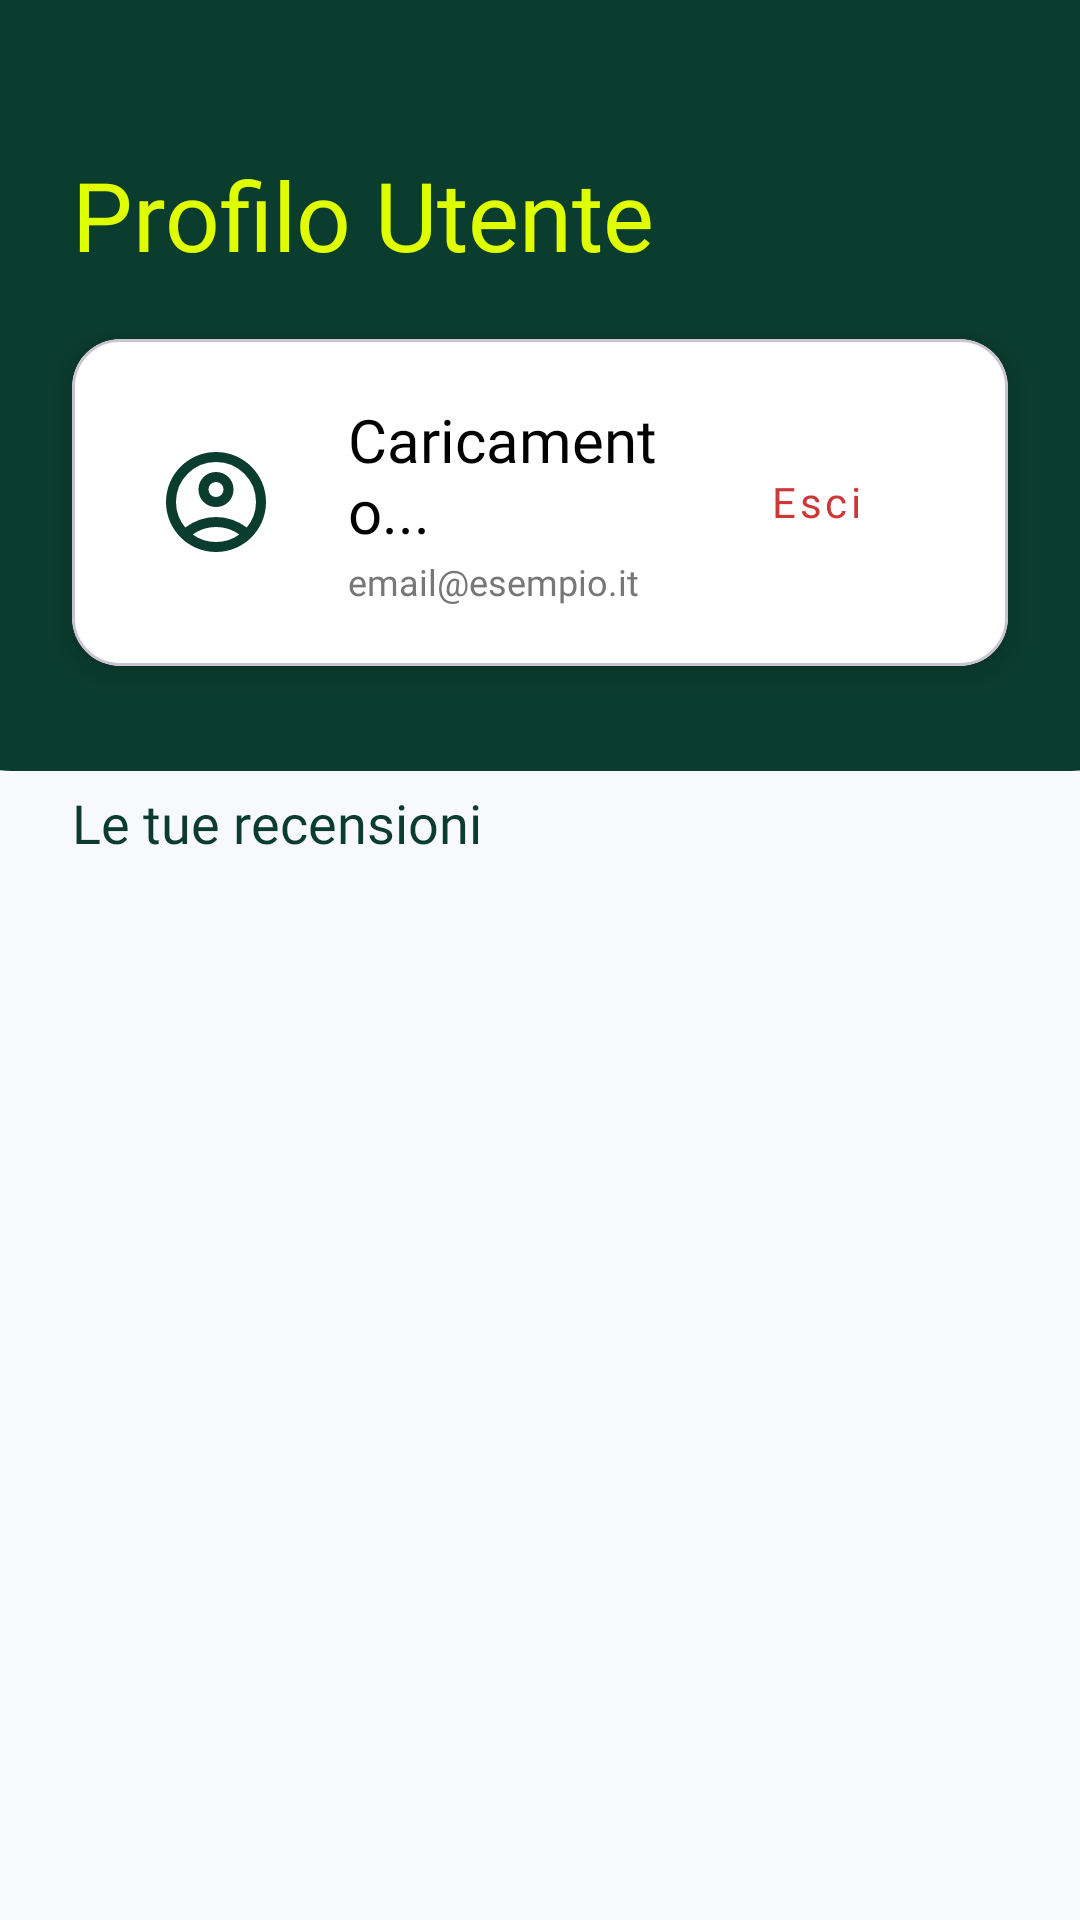

Icon click points for this 1080px x 1920px phone screenshot, format point (x, y):
user: point (216, 502)
